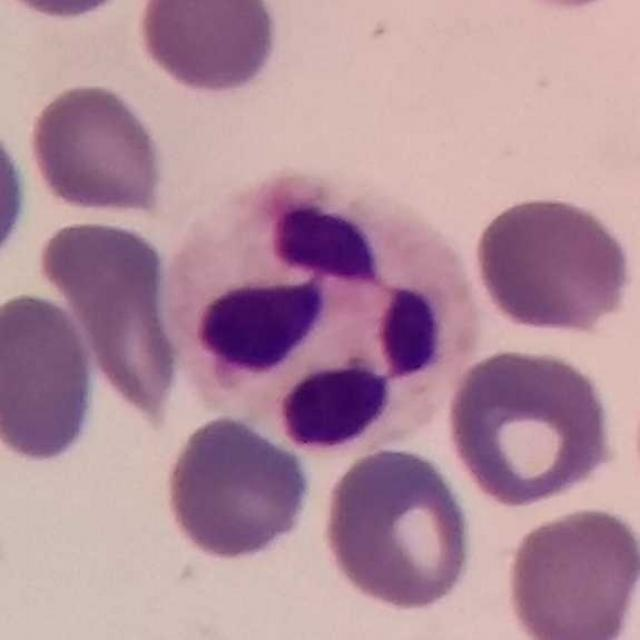Neutrophil: (154, 152, 483, 461)
RBC: (37, 217, 186, 421), (442, 343, 619, 510), (317, 442, 478, 614), (469, 190, 636, 338), (160, 411, 314, 565), (25, 79, 169, 217), (501, 502, 640, 640), (0, 288, 102, 468), (132, 0, 283, 99), (32, 216, 174, 315), (0, 111, 32, 283), (0, 0, 141, 23)
